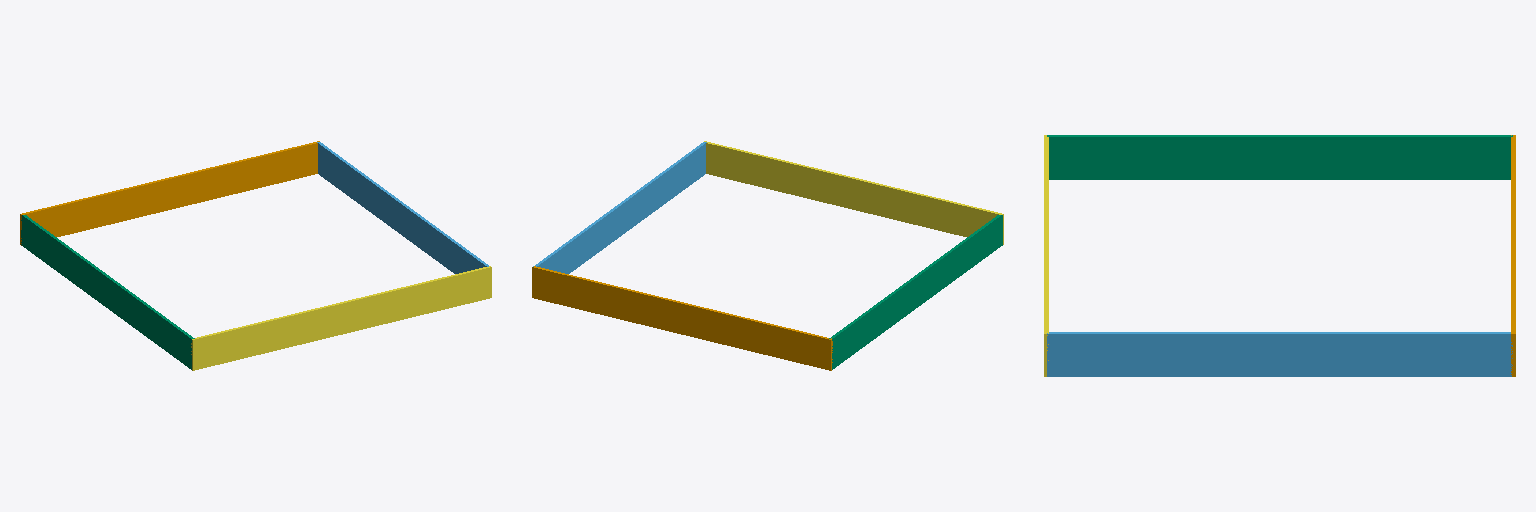
robot.urdf — room_20_20:
<?xml version="0.0" ?>
<robot name="room_20_20">
  <link name="wall_top">
    <inertial>
        <mass value="1"/>
        <inertia ixx="1" ixy="0" ixz="0" iyy="1" iyz="0" izz="1"/>
    </inertial>
    <visual>
      <geometry>
	    <box size="20.2 0.2 2"/>
      </geometry>
      <origin xyz="0 10 1"/>
    </visual>
    <collision>
      <geometry>
	    <box size="20.2 0.2 2"/>
      </geometry>
      <origin xyz="0 10 1"/>
    </collision>
  </link>

  <link name="wall_right">
    <inertial>
        <mass value="1"/>
        <inertia ixx="1" ixy="0" ixz="0" iyy="1" iyz="0" izz="1"/>
    </inertial>
    <visual>
      <geometry>
	    <box size="0.2 20 2"/>
      </geometry>
      <origin xyz="10 0 1"/>
    </visual>
    <collision>
      <geometry>
	    <box size="0.2 20 2"/>
      </geometry>
      <origin xyz="10 0 1"/>
    </collision>
  </link>


  <joint name="top_to_right" type="fixed">
    <origin xyz="0 0 0"/>
    <parent link="wall_top"/>
    <child link="wall_right"/>
  </joint>

    <link name="wall_left">
    <inertial>
        <mass value="1"/>
        <inertia ixx="1" ixy="0" ixz="0" iyy="1" iyz="0" izz="1"/>
    </inertial>
    <visual>
      <geometry>
	    <box size="0.2 20 2"/>
      </geometry>
      <origin xyz="-10 0 1"/>
    </visual>
    <collision>
      <geometry>
	    <box size="0.2 20 2"/>
      </geometry>
      <origin xyz="-10 0 1"/>
    </collision>
  </link>


  <joint name="top_to_left" type="fixed">
    <origin xyz="0.0 0.0 0.0"/>
    <parent link="wall_top"/>
    <child link="wall_left"/>
  </joint>

  <link name="wall_bottom">
    <inertial>
        <mass value="1"/>
        <inertia ixx="1" ixy="0" ixz="0" iyy="1" iyz="0" izz="1"/>
    </inertial>
    <visual>
      <geometry>
	    <box size="20.2 0.2 2"/>
      </geometry>
      <origin xyz="0 -10 1"/>
    </visual>
    <collision>
      <geometry>
	    <box size="20.2 0.2 2"/>
      </geometry>
      <origin xyz="0 -10 1"/>
    </collision>
  </link>

<joint name="right_to_bottom" type="fixed">
    <origin xyz="0.0 0.0 0.0"/>
    <parent link="wall_right"/>
    <child link="wall_bottom"/>
  </joint>


</robot>

--- Render facts (derived) ---
3 views of the same robot in one strip: view 1: azimuth 30°, elevation 25°; view 2: azimuth 150°, elevation 25°; view 3: azimuth 270°, elevation 25° (orthographic).
Robot: room_20_20 — 4 links, 3 joints (3 fixed); root link wall_top; default pose: all joints at 0.
Links seen in each view (by area): view 1: wall_bottom, wall_top, wall_left, wall_right; view 2: wall_top, wall_bottom, wall_left, wall_right; view 3: wall_right, wall_left, wall_top, wall_bottom.
Boxes of the visible links, left/top/right/bottom form: wall_bottom: left=191, top=266, right=491, bottom=370; wall_top: left=20, top=141, right=319, bottom=245; wall_left: left=21, top=215, right=194, bottom=369; wall_right: left=317, top=142, right=488, bottom=273; wall_top: left=532, top=266, right=832, bottom=370; wall_bottom: left=704, top=141, right=1003, bottom=244; wall_left: left=829, top=215, right=1002, bottom=369; wall_right: left=533, top=142, right=706, bottom=273; wall_right: left=1047, top=332, right=1512, bottom=376; wall_left: left=1047, top=135, right=1512, bottom=179; wall_top: left=1511, top=135, right=1515, bottom=376; wall_bottom: left=1044, top=135, right=1048, bottom=376.
Bounding box of the posed robot: 20.2 × 20.2 × 2 m (x, y, z).
Geometry: primitives only (box / cylinder / sphere), no mesh files.